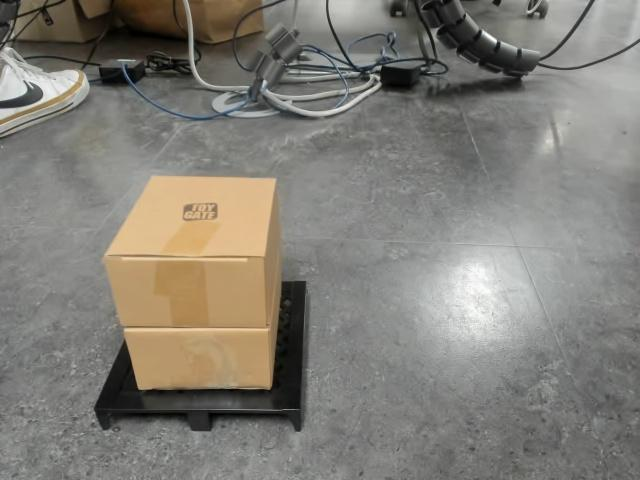box: (90, 175, 311, 435)
